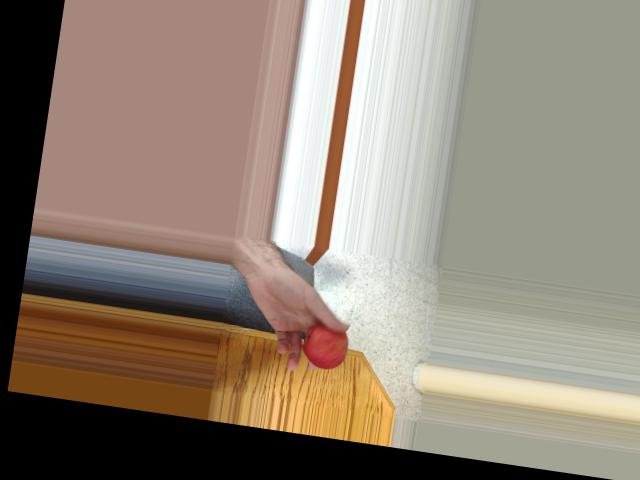apple: (292, 313, 352, 372)
